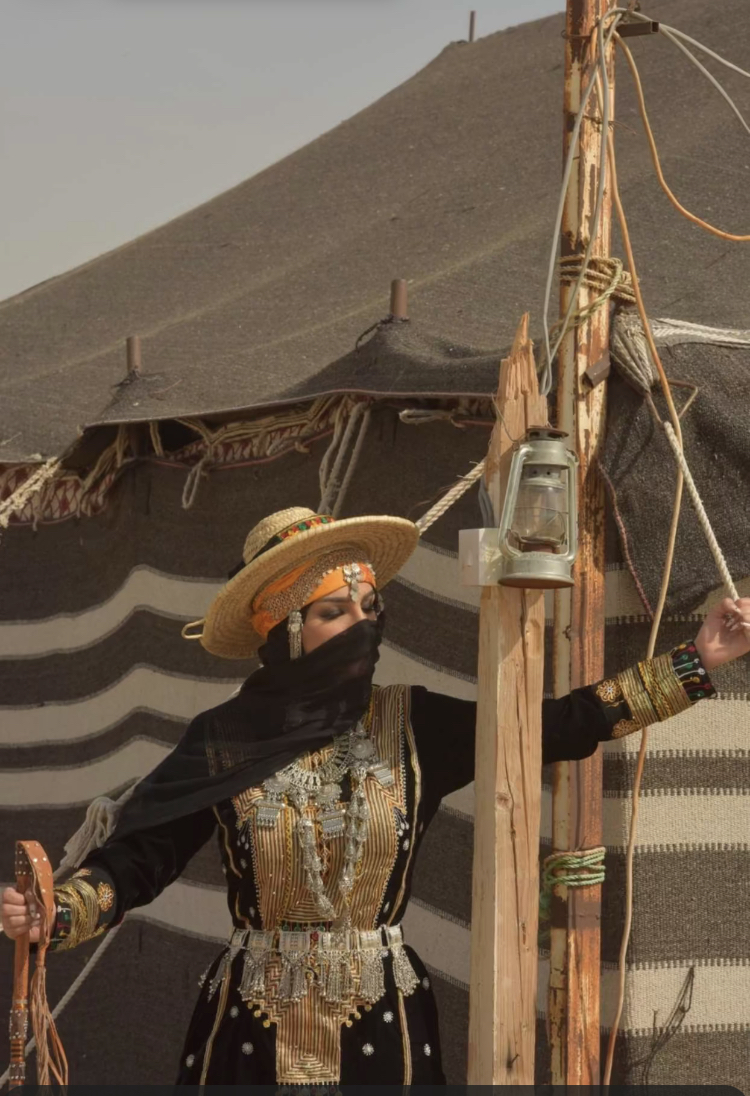Saudi_Founding_Day: (4, 496, 750, 1089)
